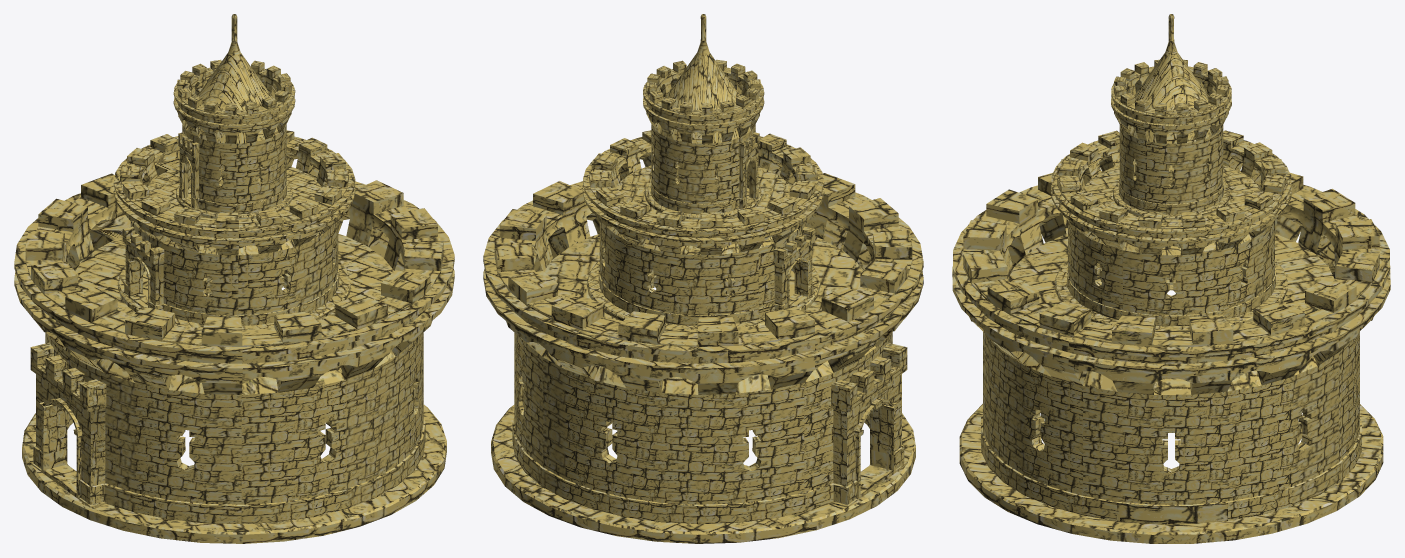
Rendered from hrade016.fbx.
3 views of the same model, side by side, from view 1: azimuth 30°, elevation 25°; view 2: azimuth 150°, elevation 25°; view 3: azimuth 270°, elevation 25° (orthographic).
Visible parts, largest first — view 1: Cylinder.018, Cylinder.017, Cylinder.019; view 2: Cylinder.018, Cylinder.017, Cylinder.019; view 3: Cylinder.018, Cylinder.017, Cylinder.019.
Boxes of the visible parts, x1,y1,x2,y2 form: Cylinder.018: (14,173,454,543); Cylinder.017: (113,130,355,329); Cylinder.019: (173,14,295,219); Cylinder.018: (483,173,923,543); Cylinder.017: (582,130,824,329); Cylinder.019: (643,14,764,219); Cylinder.018: (952,170,1390,543); Cylinder.017: (1051,130,1291,329); Cylinder.019: (1111,14,1231,219).
Bounding box in the file's own units: 32.11 × 35.44 × 32.01.
